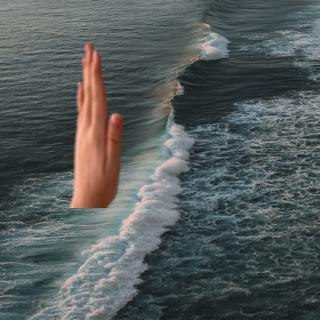Right: (64, 39, 127, 202)
